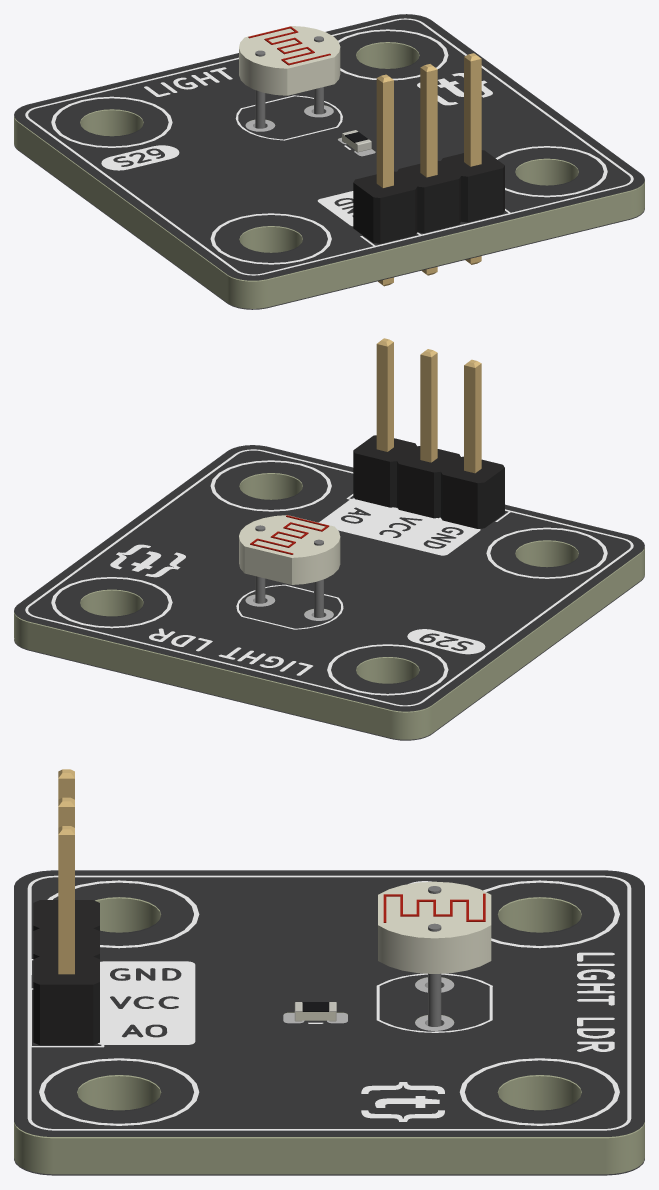
3 views of the same model, one above another, from view 1: azimuth 30°, elevation 25°; view 2: azimuth 150°, elevation 25°; view 3: azimuth 270°, elevation 25° (orthographic). The views are drawn at different scales.
Visible parts, largest first — view 1: =>[0:1:1:8], =>[0:1:1:10], J1, =>[0:1:1:6], R1, =>[0:1:1:9], =>[0:1:1:5], R2; view 2: =>[0:1:1:8], =>[0:1:1:10], J1, =>[0:1:1:6], R1, =>[0:1:1:9]; view 3: =>[0:1:1:8], =>[0:1:1:10], =>[0:1:1:6], J1, R1, =>[0:1:1:9], =>[0:1:1:5], R2.
Part boxes in pixels (left/top/right/bottom): =>[0:1:1:8]: left=14, top=14, right=644, bottom=280; =>[0:1:1:10]: left=14, top=42, right=644, bottom=308; J1: left=353, top=53, right=504, bottom=286; =>[0:1:1:6]: left=25, top=18, right=633, bottom=275; R1: left=239, top=26, right=340, bottom=128; =>[0:1:1:9]: left=14, top=145, right=644, bottom=309; =>[0:1:1:5]: left=245, top=105, right=375, bottom=156; R2: left=342, top=130, right=371, bottom=152; =>[0:1:1:8]: left=14, top=445, right=644, bottom=711; =>[0:1:1:10]: left=14, top=473, right=644, bottom=739; J1: left=353, top=338, right=504, bottom=528; =>[0:1:1:6]: left=25, top=449, right=633, bottom=706; R1: left=239, top=515, right=340, bottom=617; =>[0:1:1:9]: left=14, top=576, right=644, bottom=740; =>[0:1:1:8]: left=14, top=870, right=644, bottom=1136; =>[0:1:1:10]: left=14, top=897, right=644, bottom=1174; =>[0:1:1:6]: left=27, top=875, right=631, bottom=1130; J1: left=33, top=769, right=99, bottom=1045; R1: left=378, top=881, right=491, bottom=1026; =>[0:1:1:9]: left=14, top=1158, right=644, bottom=1175; =>[0:1:1:5]: left=283, top=977, right=454, bottom=1030; R2: left=294, top=1002, right=336, bottom=1021.
Bounding box in the file's own units: 0.024 × 0.0115 × 0.024.
